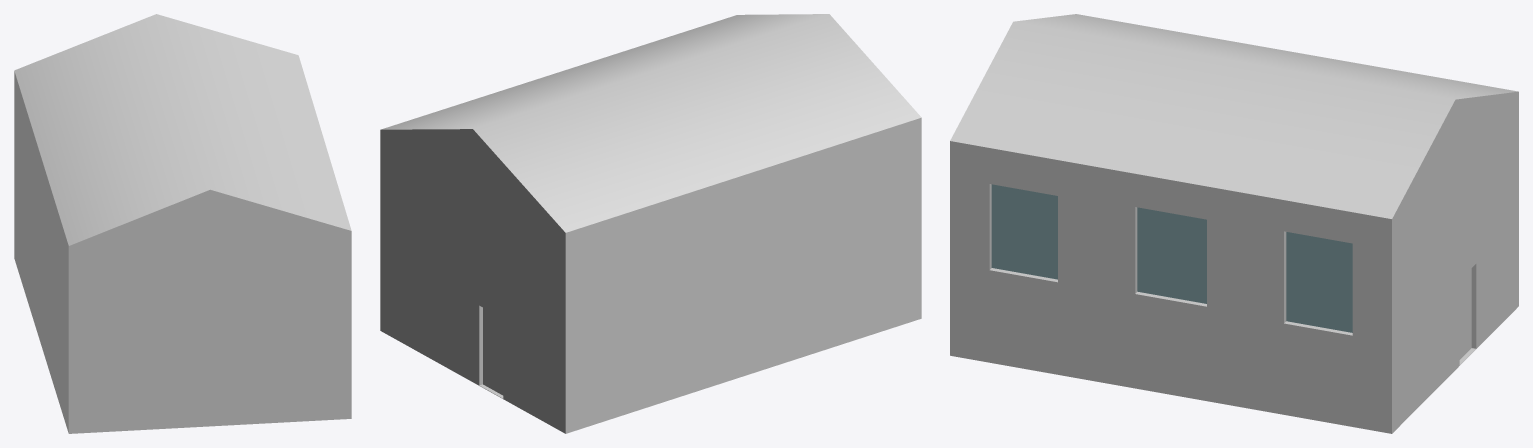
File: RF_Lodge_shed 1.fbx
3 renders of one model, left to right at view 1: azimuth 30°, elevation 25°; view 2: azimuth 150°, elevation 25°; view 3: azimuth 270°, elevation 25°, orthographic. The views are drawn at different scales.
Parts seen in each view (by area): view 1: polySurface13; view 2: polySurface13; view 3: polySurface13.
Part boxes in pixels (left/top/right/bottom): polySurface13: left=14, top=14, right=351, bottom=433; polySurface13: left=380, top=14, right=921, bottom=433; polySurface13: left=950, top=14, right=1518, bottom=433.
Bounding box in the file's own units: 19.34 × 11.89 × 22.65.
